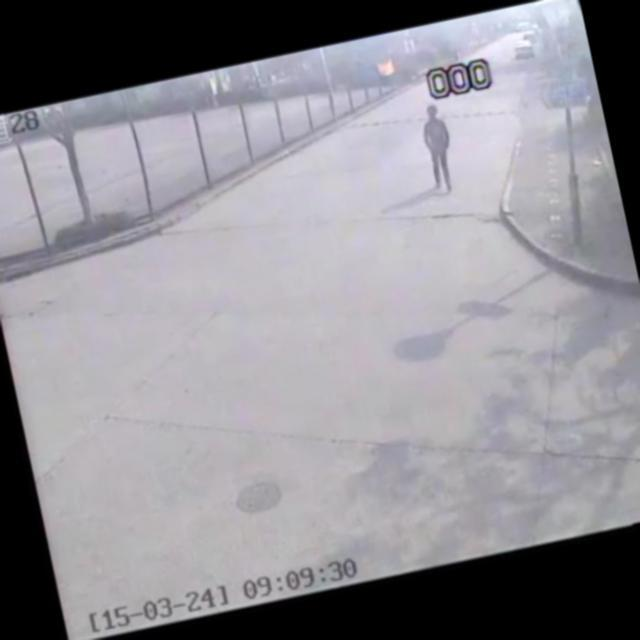person: (413, 96, 463, 200)
